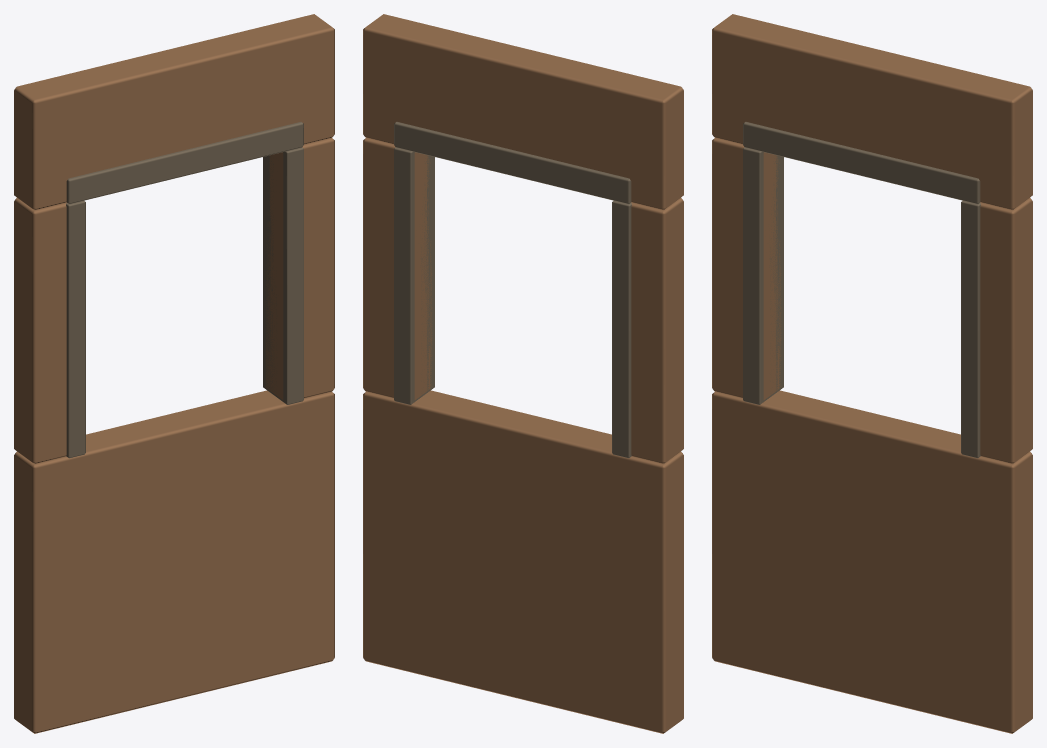
File: ghost-town-window-frame.1853f5b1.glb
The picture shows the model from 3 angles, left to right: view 1: azimuth 30°, elevation 25°; view 2: azimuth 150°, elevation 25°; view 3: azimuth 330°, elevation 25°; orthographic projection.
Visible parts, largest first — view 1: body; view 2: body; view 3: body.
Part boxes in pixels (box(x1,y1,x2,y2)): body: box(14, 14, 334, 733); body: box(363, 14, 683, 733); body: box(712, 14, 1032, 733).
Size of the model in its own units: 1 by 2 by 0.14.
